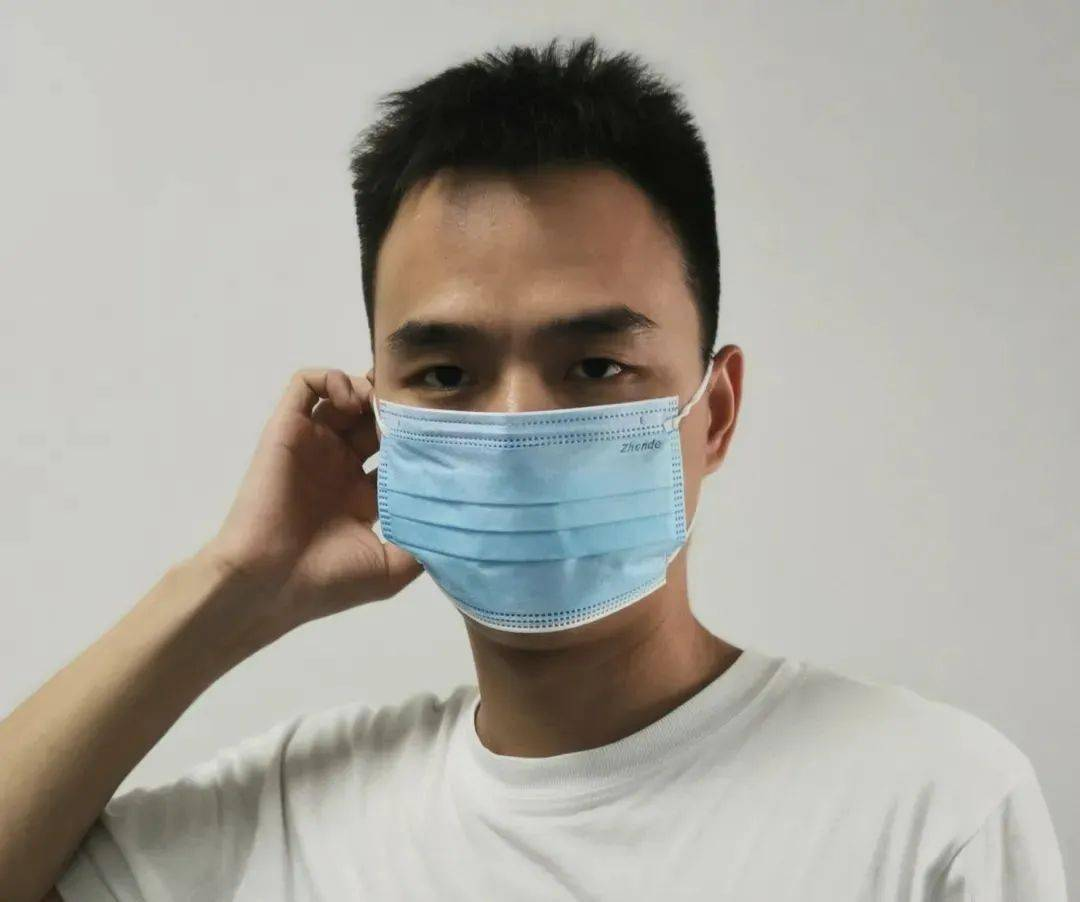mask: (360, 183, 720, 656)
